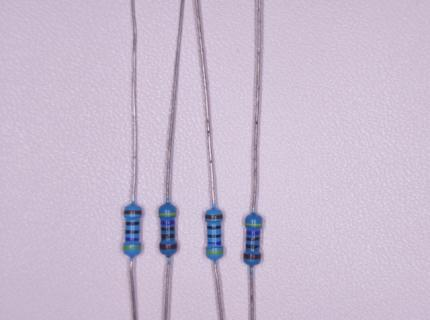Black band: (245, 243, 260, 249), (125, 229, 140, 235), (125, 221, 140, 226), (161, 226, 175, 231), (161, 234, 175, 239), (207, 234, 222, 238), (206, 225, 221, 229), (246, 237, 260, 241)
Brown band: (159, 243, 177, 250), (243, 253, 262, 259), (124, 210, 143, 215), (205, 214, 223, 219)
Violet band: (246, 230, 261, 236), (160, 220, 176, 225), (125, 237, 140, 242), (207, 241, 222, 246)
Yellow band: (122, 246, 141, 250), (158, 212, 177, 216), (205, 250, 224, 254), (245, 223, 262, 227)
